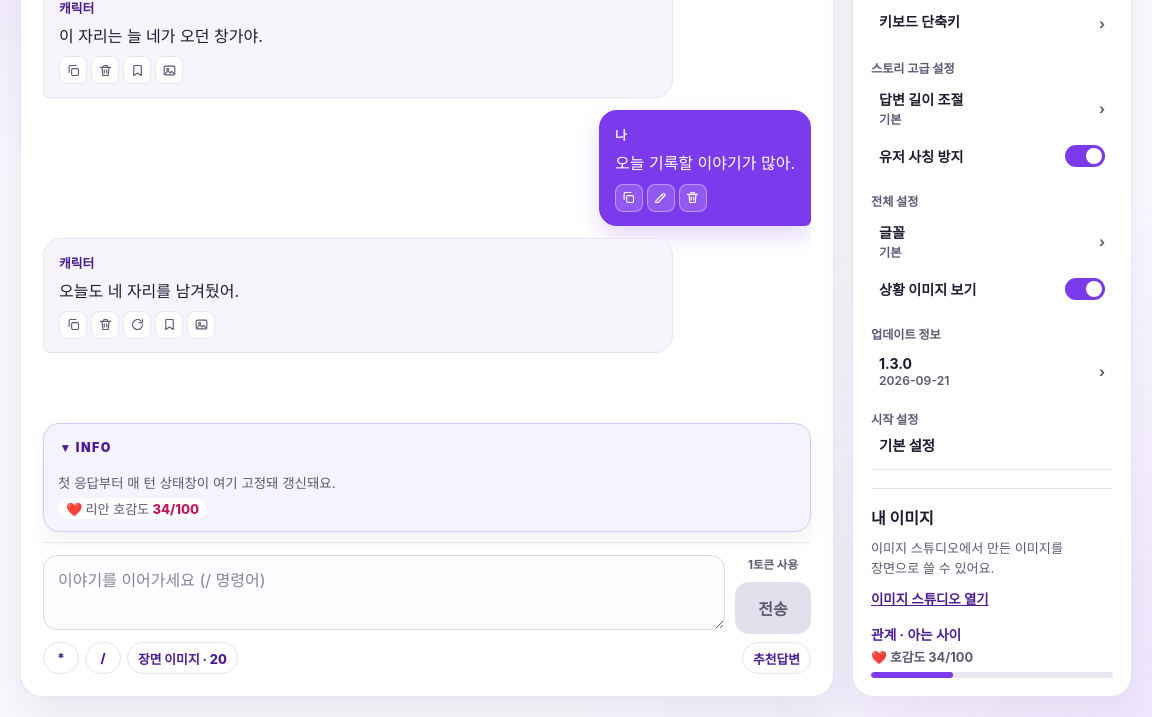
Test case: 채팅 흐름 › 완료된 응답의 다시 생성 버튼으로 화면 메시지를 교체한다
The width and height of the screenshot is (1152, 717).
(page scrolled)
Type "화면 다시 생성 대상" into the text box named "메시지" at (384, 593), box [43,555,725,630]
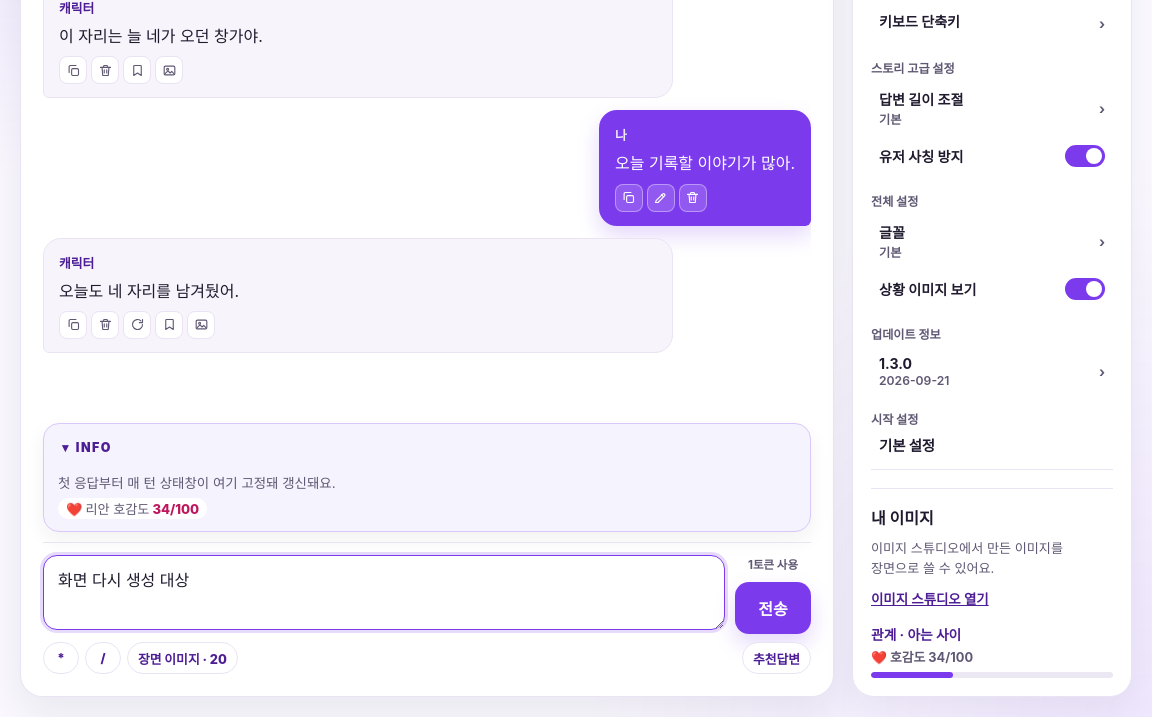
Click the button "전송" at (773, 608), box [735,582,811,634]
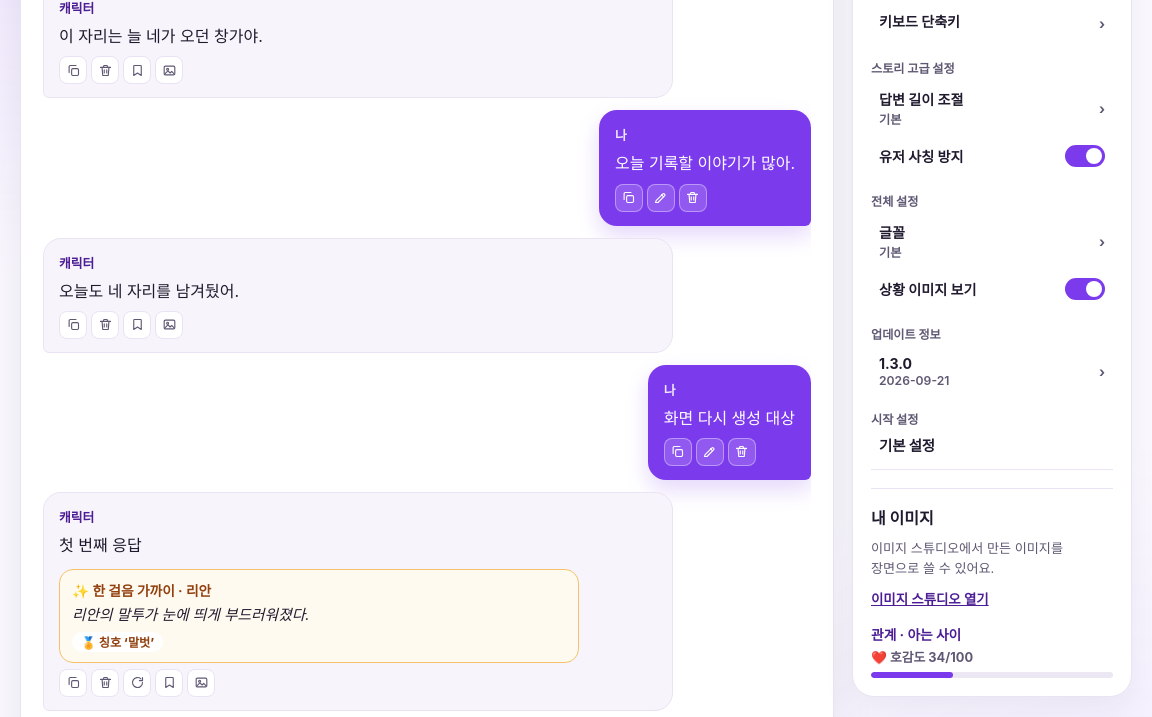
Check: the text "첫 번째 응답" is shown, box [59,535,142,555]
Click the button named "다시 생성" at (137, 683), box [123,669,151,697]
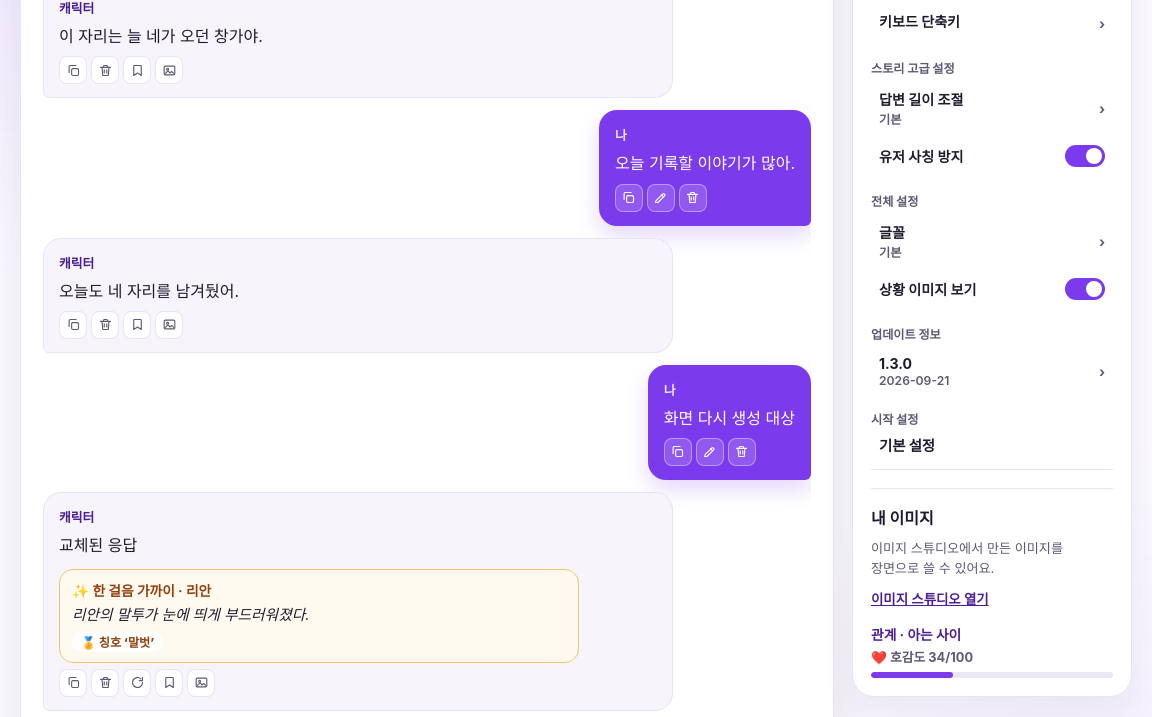
Check: the text "화면 다시 생성 대상" is shown once, box [664,405,795,432]
Check: the text "교체된 응답" is shown, box [59,535,137,555]
Check: the text "첫 번째 응답" is gone
